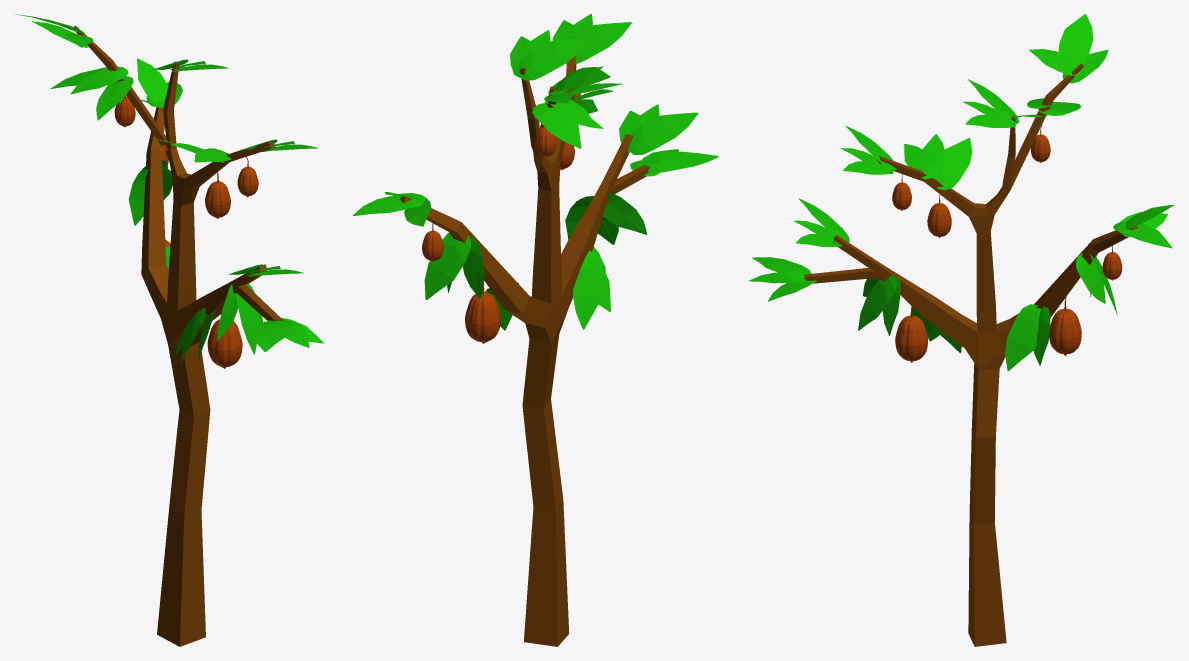
Rendered from cocoa_tree_1-1 (1).fbx.
3 renders of one model, left to right at view 1: azimuth 30°, elevation 25°; view 2: azimuth 150°, elevation 25°; view 3: azimuth 270°, elevation 25°, orthographic. The views are drawn at different scales.
Visible parts, largest first — view 1: Sphere.007; view 2: Sphere.007; view 3: Sphere.007.
Boxes of the visible parts, x1=… form: Sphere.007: x1=14, y1=14, x2=323, y2=646; Sphere.007: x1=352, y1=14, x2=718, y2=646; Sphere.007: x1=749, y1=14, x2=1173, y2=646.
Bounding box in the file's own units: 375 × 1071 × 722.
1 material, 1 textured.
